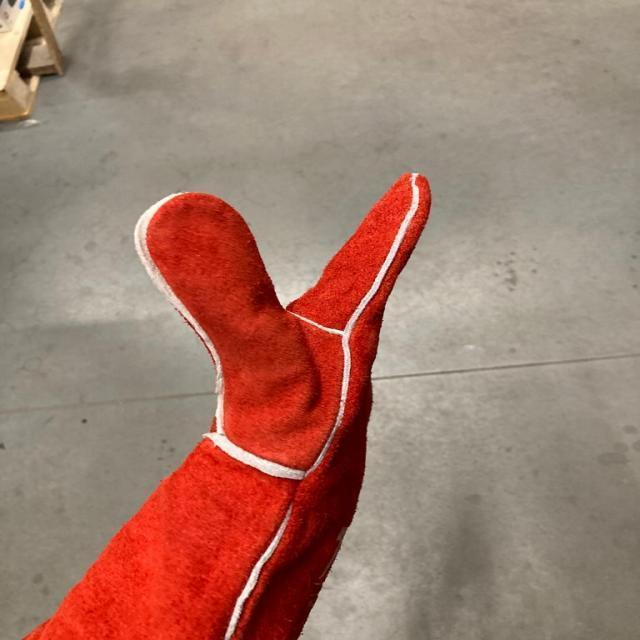gloves: (112, 163, 437, 615)
